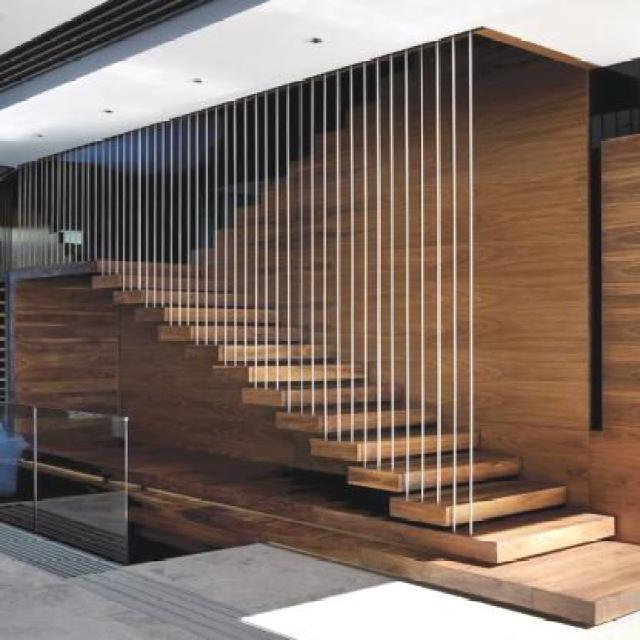stair: (40, 186, 640, 619)
